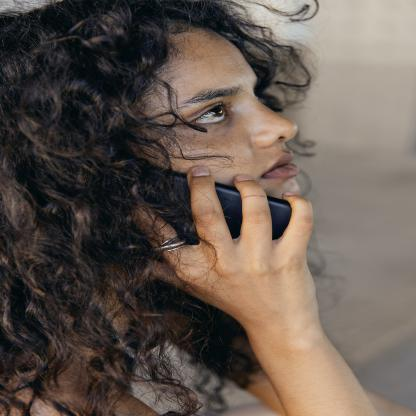Eye: (187, 101, 231, 126)
Mouth: (260, 150, 300, 180)
Nose: (247, 98, 297, 148)
